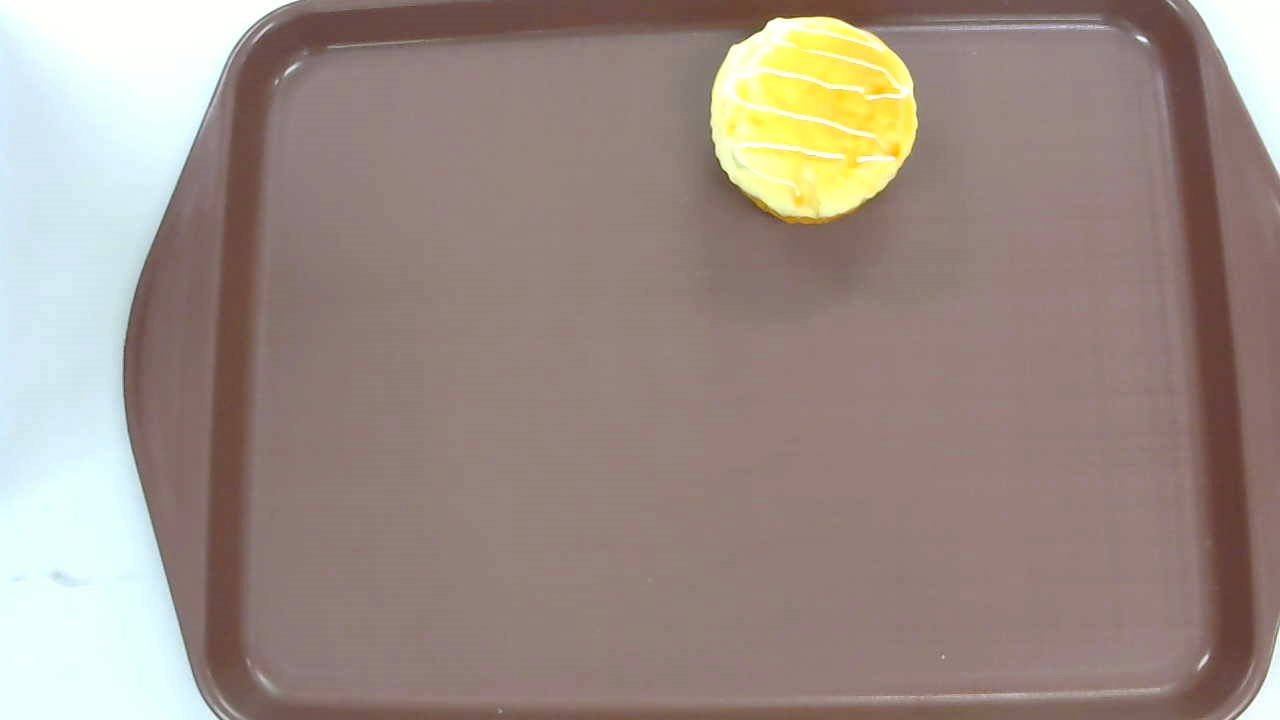cupcake: (710, 16, 919, 226)
